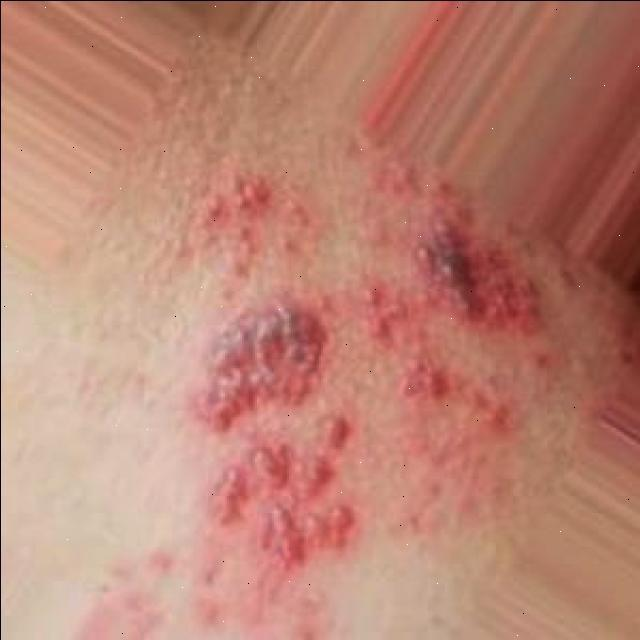Shingles: (154, 171, 506, 559)
